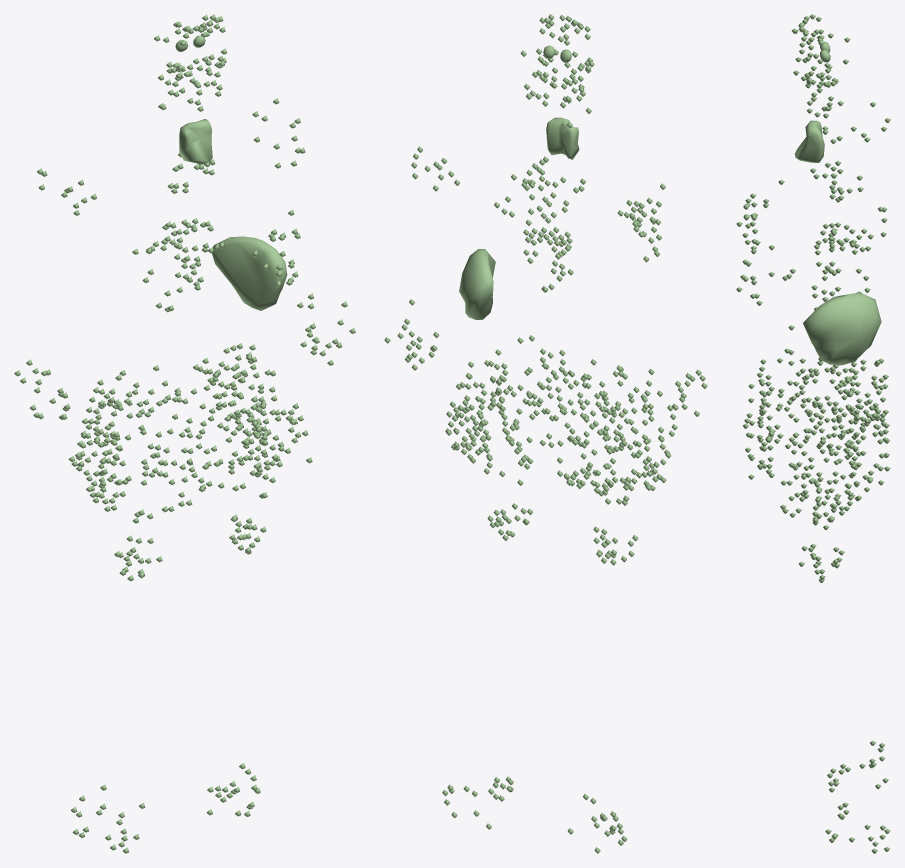
Rendered from pediatric_adolescent_female.lymphatic.LOD2.glb.
The picture shows the model from 3 angles, left to right: view 1: azimuth 30°, elevation 25°; view 2: azimuth 150°, elevation 25°; view 3: azimuth 270°, elevation 25°; orthographic projection. The views are drawn at different scales.
Visible parts, largest first — view 1: PEDIATRIC.ADOLESCENT.FEMALE.LYMPHATIC.LYMPHATIC_NODES_TRUNK, PEDIATRIC.ADOLESCENT.FEMALE.LYMPHATIC.SPLEEN, PEDIATRIC.ADOLESCENT.FEMALE.LYMPHATIC.LYMPHATIC_NODES_THORAC, PEDIATRIC.ADOLESCENT.FEMALE.LYMPHATIC.THYMUS, PEDIATRIC.ADOLESCENT.FEMALE.LYMPHATIC.LYMPHATIC_NODES_ET, PEDIATRIC.ADOLESCENT.FEMALE.LYMPHATIC.LYMPHATIC_NODES_LEGS, PEDIATRIC.ADOLESCENT.FEMALE.LYMPHATIC.LYMPHATIC_NODES_ARMS; view 2: PEDIATRIC.ADOLESCENT.FEMALE.LYMPHATIC.LYMPHATIC_NODES_TRUNK, PEDIATRIC.ADOLESCENT.FEMALE.LYMPHATIC.SPLEEN, PEDIATRIC.ADOLESCENT.FEMALE.LYMPHATIC.LYMPHATIC_NODES_THORAC, PEDIATRIC.ADOLESCENT.FEMALE.LYMPHATIC.LYMPHATIC_NODES_ET, PEDIATRIC.ADOLESCENT.FEMALE.LYMPHATIC.THYMUS, PEDIATRIC.ADOLESCENT.FEMALE.LYMPHATIC.LYMPHATIC_NODES_ARMS, PEDIATRIC.ADOLESCENT.FEMALE.LYMPHATIC.LYMPHATIC_NODES_LEGS; view 3: PEDIATRIC.ADOLESCENT.FEMALE.LYMPHATIC.LYMPHATIC_NODES_TRUNK, PEDIATRIC.ADOLESCENT.FEMALE.LYMPHATIC.SPLEEN, PEDIATRIC.ADOLESCENT.FEMALE.LYMPHATIC.LYMPHATIC_NODES_THORAC, PEDIATRIC.ADOLESCENT.FEMALE.LYMPHATIC.LYMPHATIC_NODES_ET, PEDIATRIC.ADOLESCENT.FEMALE.LYMPHATIC.THYMUS, PEDIATRIC.ADOLESCENT.FEMALE.LYMPHATIC.LYMPHATIC_NODES_LEGS, PEDIATRIC.ADOLESCENT.FEMALE.LYMPHATIC.LYMPHATIC_NODES_ARMS, PEDIATRIC.ADOLESCENT.FEMALE.LYMPHATIC.LYMPHATIC_NODES_HEAD.
Part boxes in pixels (box(x1,y1,x2,y2)): PEDIATRIC.ADOLESCENT.FEMALE.LYMPHATIC.LYMPHATIC_NODES_TRUNK: box(37, 98, 312, 581); PEDIATRIC.ADOLESCENT.FEMALE.LYMPHATIC.SPLEEN: box(212, 236, 287, 310); PEDIATRIC.ADOLESCENT.FEMALE.LYMPHATIC.LYMPHATIC_NODES_THORAC: box(145, 153, 224, 290); PEDIATRIC.ADOLESCENT.FEMALE.LYMPHATIC.THYMUS: box(179, 119, 212, 164); PEDIATRIC.ADOLESCENT.FEMALE.LYMPHATIC.LYMPHATIC_NODES_ET: box(154, 14, 226, 83); PEDIATRIC.ADOLESCENT.FEMALE.LYMPHATIC.LYMPHATIC_NODES_LEGS: box(71, 763, 260, 853); PEDIATRIC.ADOLESCENT.FEMALE.LYMPHATIC.LYMPHATIC_NODES_ARMS: box(14, 293, 355, 419); PEDIATRIC.ADOLESCENT.FEMALE.LYMPHATIC.LYMPHATIC_NODES_TRUNK: box(411, 146, 671, 565); PEDIATRIC.ADOLESCENT.FEMALE.LYMPHATIC.SPLEEN: box(459, 249, 495, 319); PEDIATRIC.ADOLESCENT.FEMALE.LYMPHATIC.LYMPHATIC_NODES_THORAC: box(521, 156, 585, 292); PEDIATRIC.ADOLESCENT.FEMALE.LYMPHATIC.LYMPHATIC_NODES_ET: box(520, 14, 594, 89); PEDIATRIC.ADOLESCENT.FEMALE.LYMPHATIC.THYMUS: box(546, 117, 579, 159); PEDIATRIC.ADOLESCENT.FEMALE.LYMPHATIC.LYMPHATIC_NODES_ARMS: box(384, 299, 707, 436); PEDIATRIC.ADOLESCENT.FEMALE.LYMPHATIC.LYMPHATIC_NODES_LEGS: box(442, 776, 627, 853); PEDIATRIC.ADOLESCENT.FEMALE.LYMPHATIC.LYMPHATIC_NODES_TRUNK: box(736, 102, 890, 582); PEDIATRIC.ADOLESCENT.FEMALE.LYMPHATIC.SPLEEN: box(803, 292, 881, 365); PEDIATRIC.ADOLESCENT.FEMALE.LYMPHATIC.LYMPHATIC_NODES_THORAC: box(810, 161, 865, 296); PEDIATRIC.ADOLESCENT.FEMALE.LYMPHATIC.LYMPHATIC_NODES_ET: box(791, 14, 850, 88); PEDIATRIC.ADOLESCENT.FEMALE.LYMPHATIC.THYMUS: box(794, 120, 824, 162); PEDIATRIC.ADOLESCENT.FEMALE.LYMPHATIC.LYMPHATIC_NODES_LEGS: box(825, 740, 890, 853); PEDIATRIC.ADOLESCENT.FEMALE.LYMPHATIC.LYMPHATIC_NODES_ARMS: box(811, 261, 870, 462); PEDIATRIC.ADOLESCENT.FEMALE.LYMPHATIC.LYMPHATIC_NODES_HEAD: box(805, 65, 843, 118).
Bounding box in the file's own units: 0.4373 × 1.08 × 0.1885.
